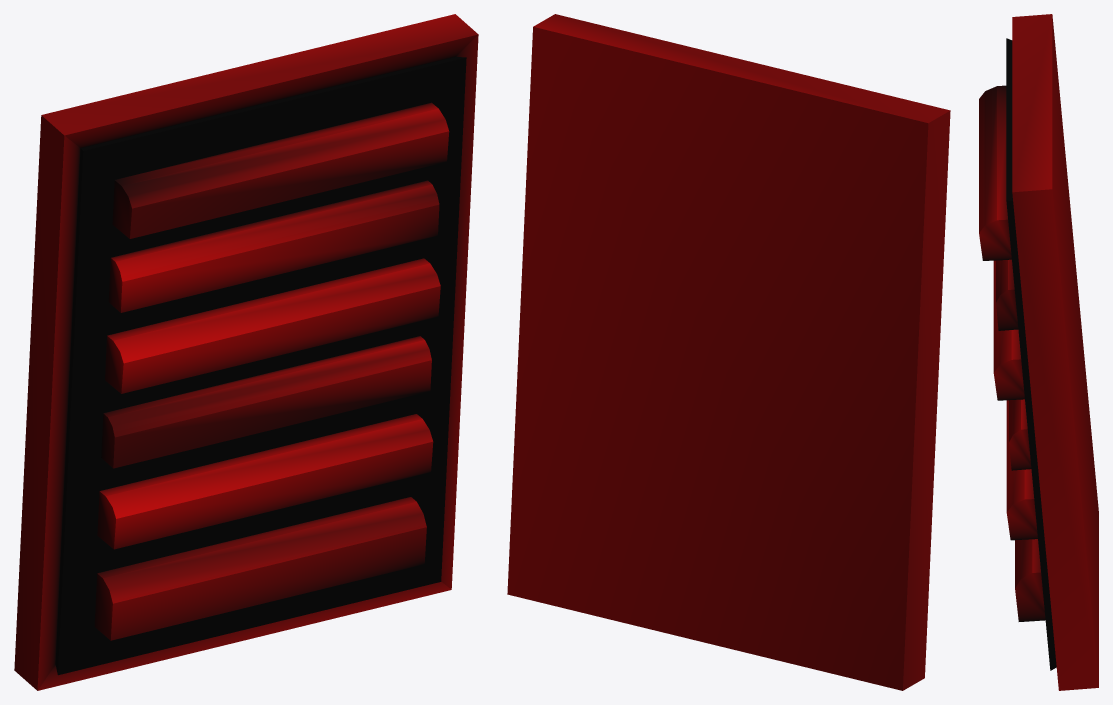
Rendered from WallVentilationV3.fbx.
3 views of the same model, side by side, from view 1: azimuth 30°, elevation 25°; view 2: azimuth 150°, elevation 25°; view 3: azimuth 270°, elevation 25° (orthographic). The views are drawn at different scales.
Parts seen in each view (by area): view 1: WallVentilationV3; view 2: WallVentilationV3; view 3: WallVentilationV3.
Part boxes in pixels (x1,y1,x2,y2): WallVentilationV3: [14, 14, 478, 690]; WallVentilationV3: [507, 14, 950, 690]; WallVentilationV3: [979, 14, 1098, 690].
Bounding box in the file's own units: 150 × 201 × 43.46.
